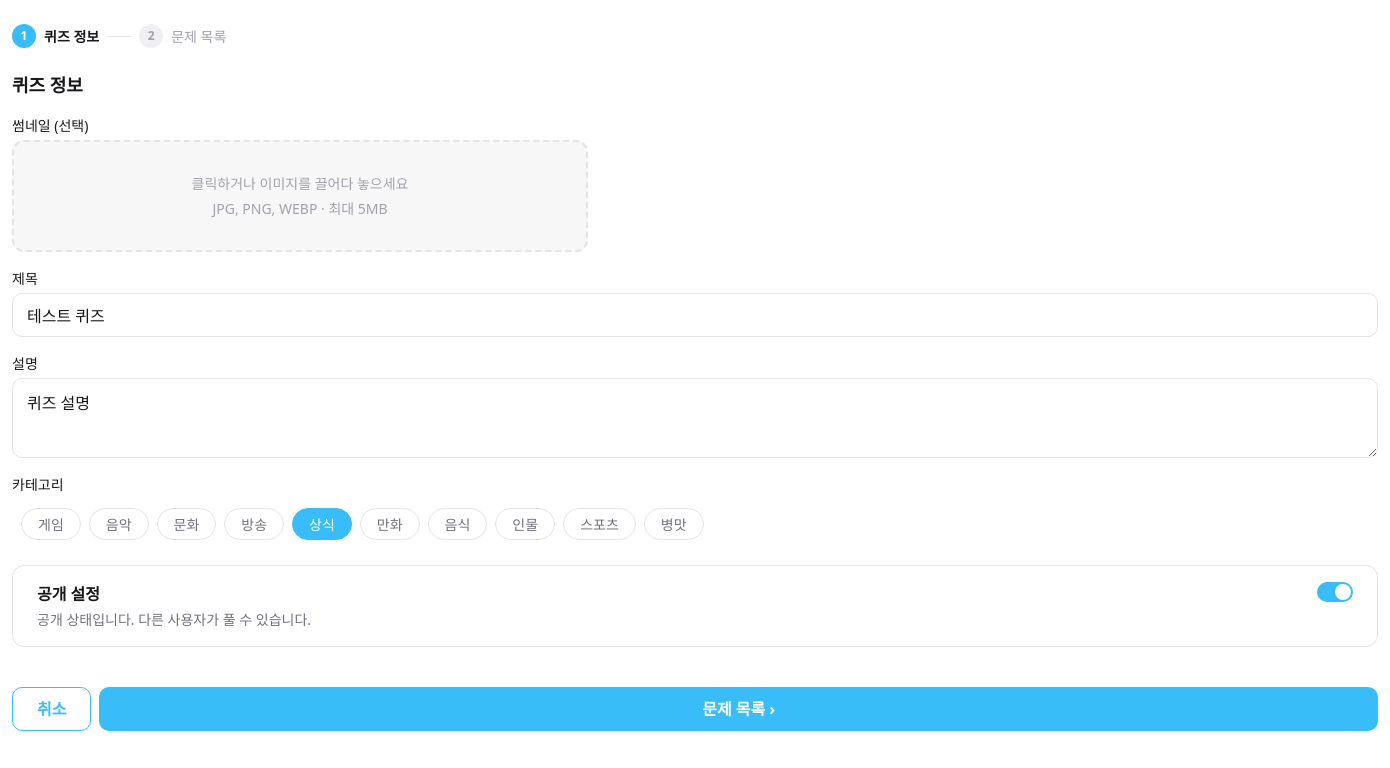
Test: QuizEditPage › STEP 1 → STEP 2 전환 › "문제 목록 ›" 클릭 시 "변경 사항 저장" + "‹ 퀴즈 정보" 버튼 노출
Click the button "문제 목록 ›". click: point(739, 709)
box: [100,687,1378,731]
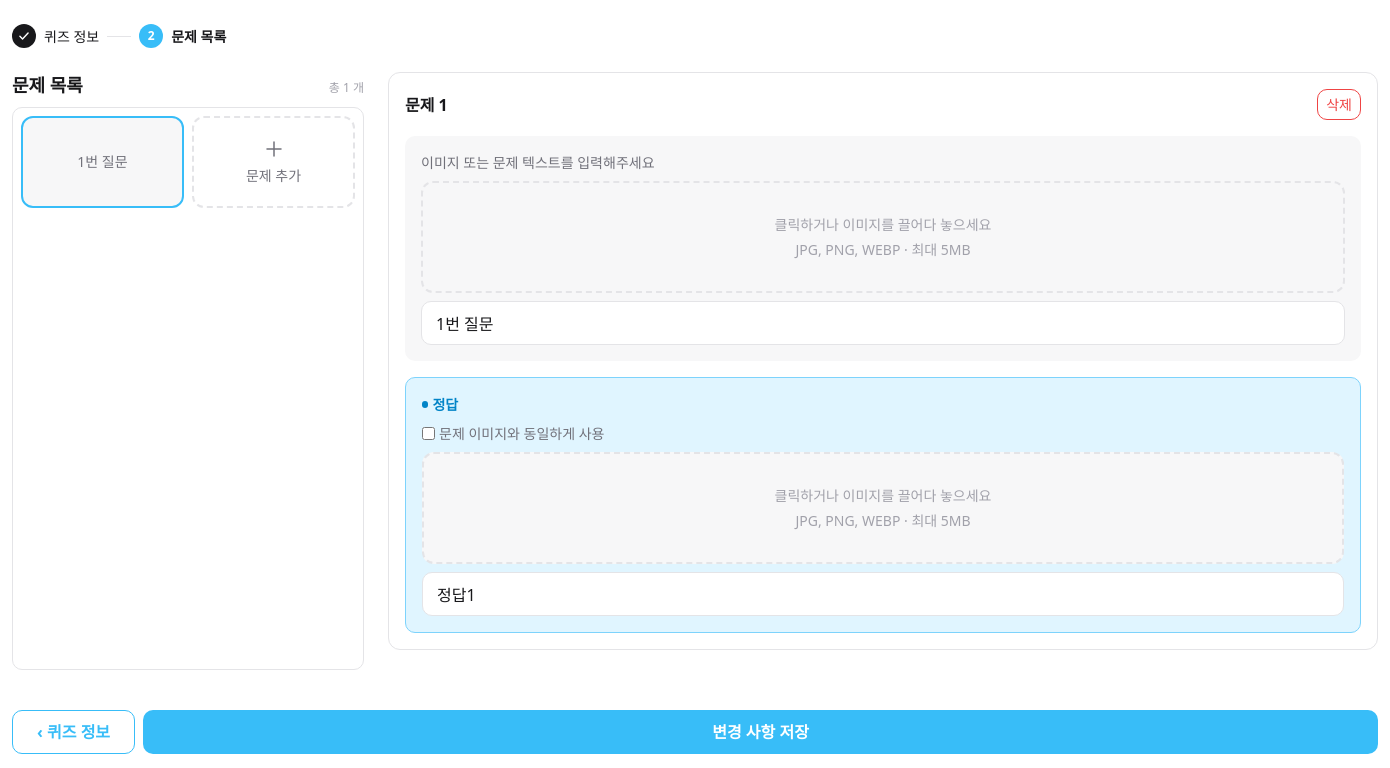
Expected: the button "변경 사항 저장" is shown, [143,710,1378,754]
Expected: the button "‹ 퀴즈 정보" is shown, [12,710,135,754]
Expected: the button "문제 목록 ›" is gone
